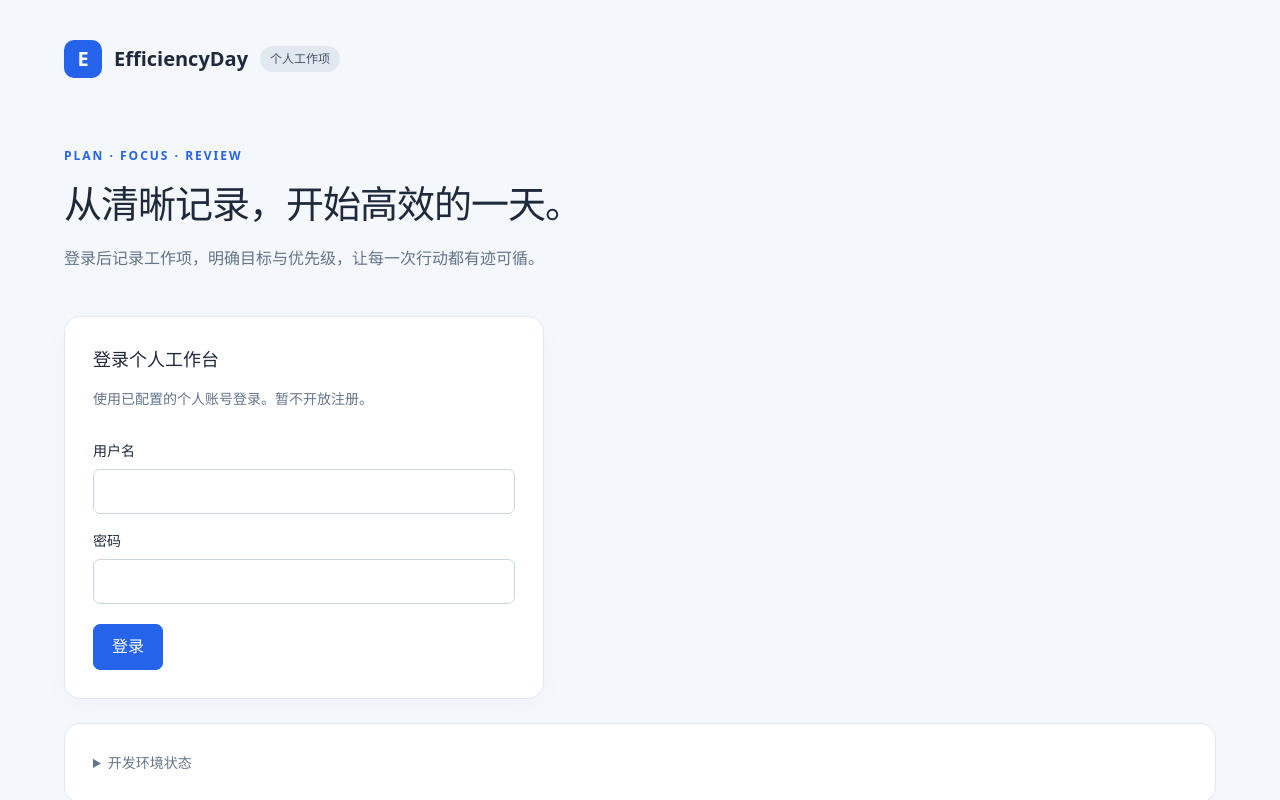
it: shows login failures without clearing the username or pretending to authenticate
The width and height of the screenshot is (1280, 800).
Step 1. Type "demo" into the field labelled "用户名" → point(304, 491), box [93,468,515,514]
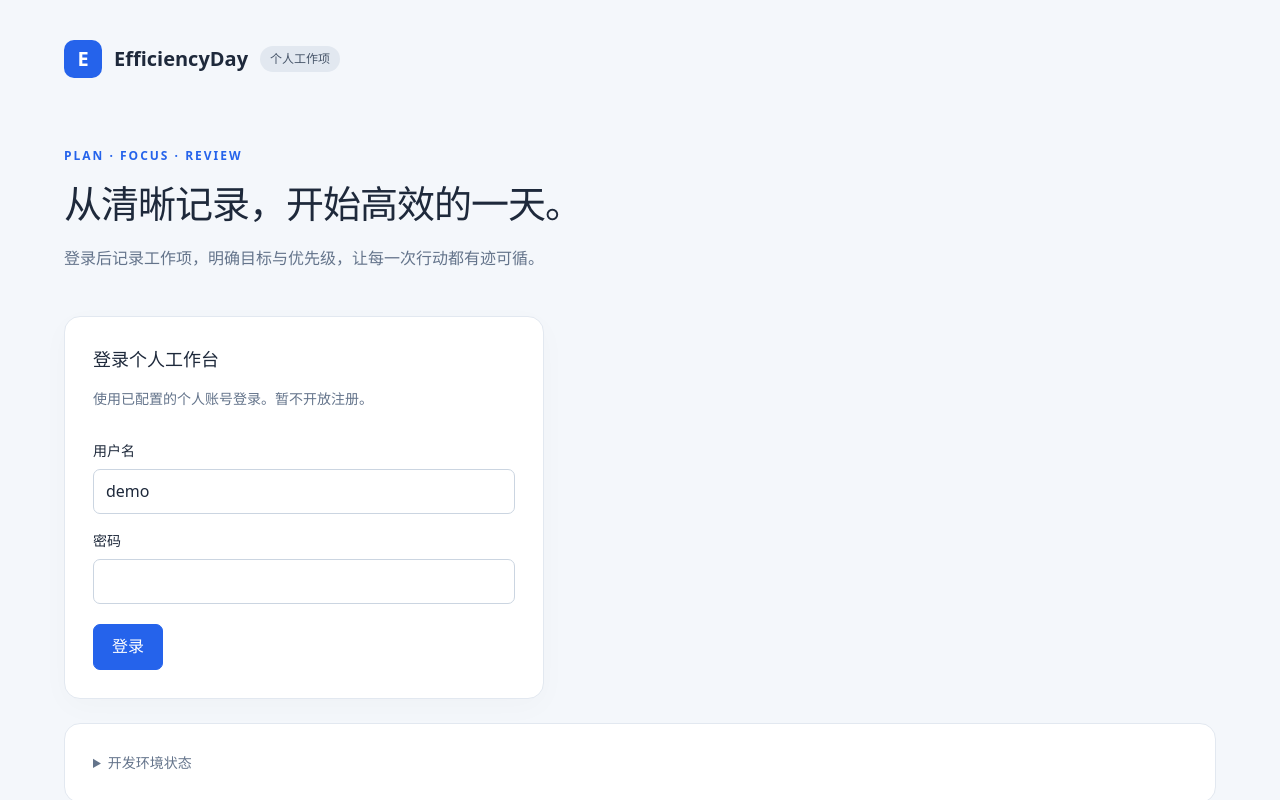
Step 2. Type "wrong-password" into the password field labelled "密码" → point(304, 581), box [93,558,515,604]
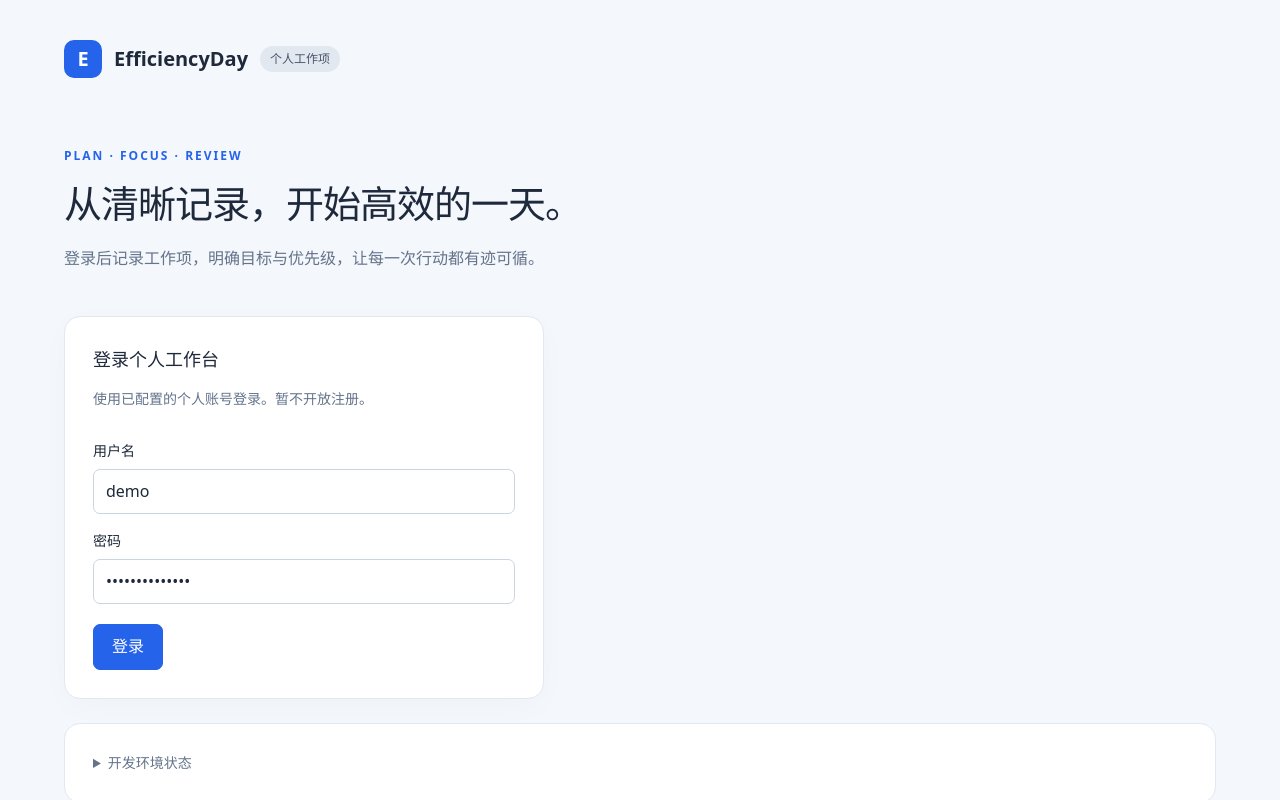
Step 3. Click the button "登录" → point(128, 647), box [93,624,163,670]
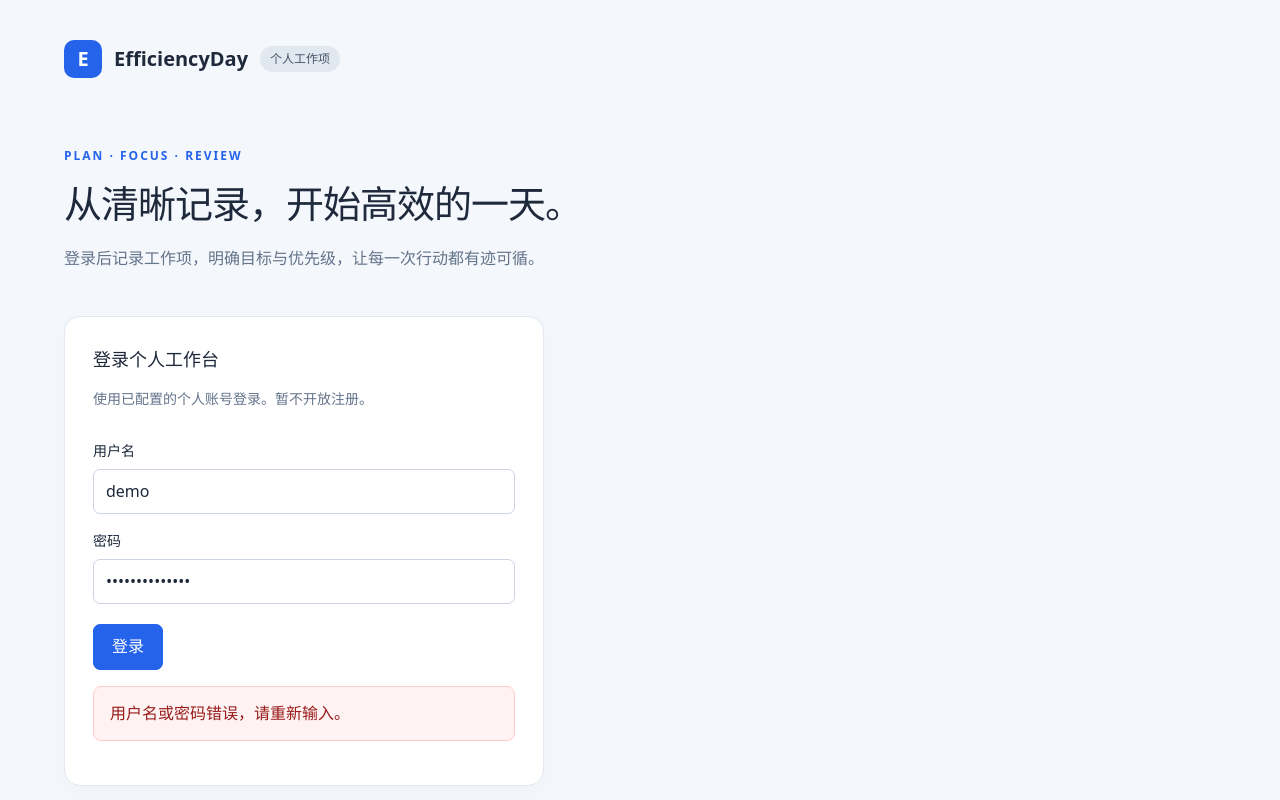
Check: the message shows "用户名或密码错误", box [110,702,350,724]
